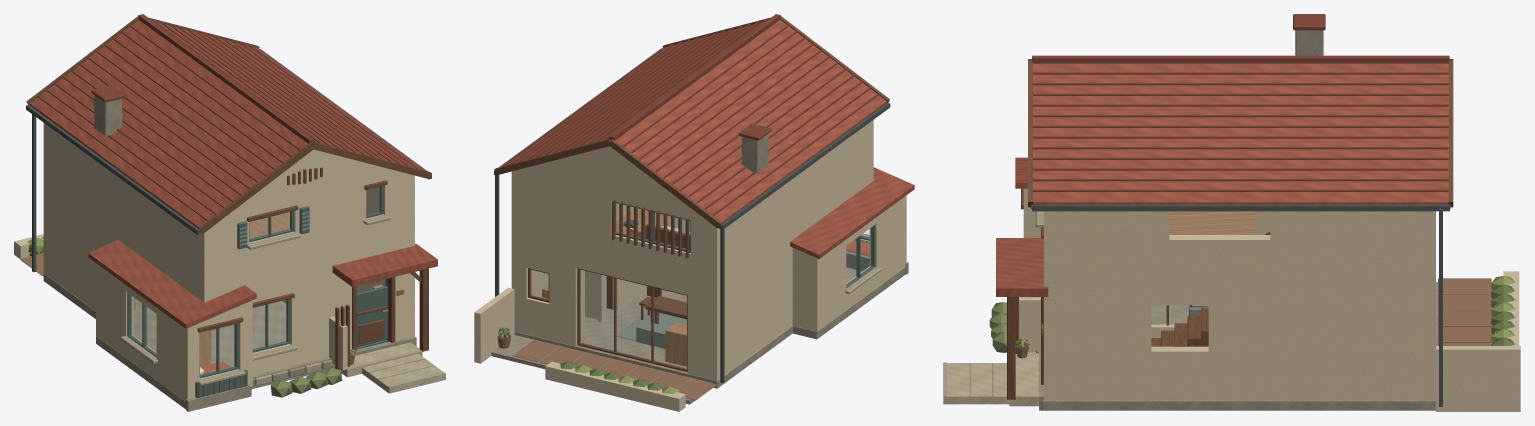
Rendered from west-reading-house.glb.
The picture shows the model from 3 angles, left to right: view 1: azimuth 30°, elevation 25°; view 2: azimuth 150°, elevation 25°; view 3: azimuth 270°, elevation 25°; orthographic projection. The views are drawn at different scales.
Parts seen in each view (by area): view 1: West pitch and eave, Upper west wall end pier, East pitch and eave, Upper street wall pier.001, West wall end pier, Street wall pier.001, Front gable closure, Reading bay side lean-to, Ground floor foundation, Upper street wall pier, Reading bay side wall around opening, Entrance canopy (+59 smaller); view 2: West pitch and eave, Upper west wall end pier, Upper rear wall end pier, West wall end pier, East pitch and eave, Ground floor foundation, Rear gable closure, Reading bay side lean-to, Rear garden wall pier, Rear garden wall pier.001, Reading bay side wall around opening.001, Rear planter wall (+56 smaller); view 3: East pitch and eave, East wall end pier, East wall pier, Upper east wall end pier, Upper east wall pier, Rear privacy return, Ground floor foundation, Upper east wall sill, Terracotta ridge cap, Rain gutter under eave.001, East wall sill, Entrance canopy (+32 smaller).
Boxes of the visible parts, box(x1,y1,x2,y2) form: West pitch and eave: box(29, 20, 312, 233); Upper west wall end pier: box(48, 126, 199, 290); East pitch and eave: box(157, 22, 424, 170); Upper street wall pier.001: box(293, 180, 366, 272); West wall end pier: box(49, 181, 122, 310); Street wall pier.001: box(290, 258, 353, 365); Front gable closure: box(230, 149, 399, 213); Reading bay side lean-to: box(88, 240, 202, 319); Ground floor foundation: box(43, 273, 286, 366); Upper street wall pier: box(199, 209, 248, 294); Reading bay side wall around opening: box(156, 308, 194, 401); Entrance canopy: box(332, 244, 437, 286); West pitch and eave: box(611, 19, 886, 228); Upper west wall end pier: box(724, 123, 868, 281); Upper rear wall end pier: box(511, 167, 611, 260); West wall end pier: box(724, 231, 794, 374); East pitch and eave: box(501, 22, 762, 166); Ground floor foundation: box(514, 267, 862, 388); Rear gable closure: box(527, 146, 689, 207); Reading bay side lean-to: box(790, 181, 902, 258); Rear garden wall pier: box(687, 279, 720, 380); Rear garden wall pier.001: box(549, 246, 580, 346); Reading bay side wall around opening.001: box(810, 239, 846, 331); Rear planter wall: box(545, 361, 685, 411); East pitch and eave: box(1031, 63, 1450, 208); East wall end pier: box(1208, 283, 1422, 400); East wall pier: box(1056, 283, 1151, 400); Upper east wall end pier: box(1270, 211, 1424, 283); Upper east wall pier: box(1055, 211, 1169, 283); Rear privacy return: box(1436, 346, 1520, 411); Ground floor foundation: box(1041, 305, 1435, 410); Upper east wall sill: box(1169, 235, 1270, 283); Terracotta ridge cap: box(1032, 55, 1449, 63); Rain gutter under eave.001: box(1032, 204, 1449, 211); East wall sill: box(1151, 346, 1208, 400); Entrance canopy: box(996, 238, 1048, 296).
Size of the model in its own units: 7.37 by 6.6 by 11.86.
24 materials, 7 textured.
